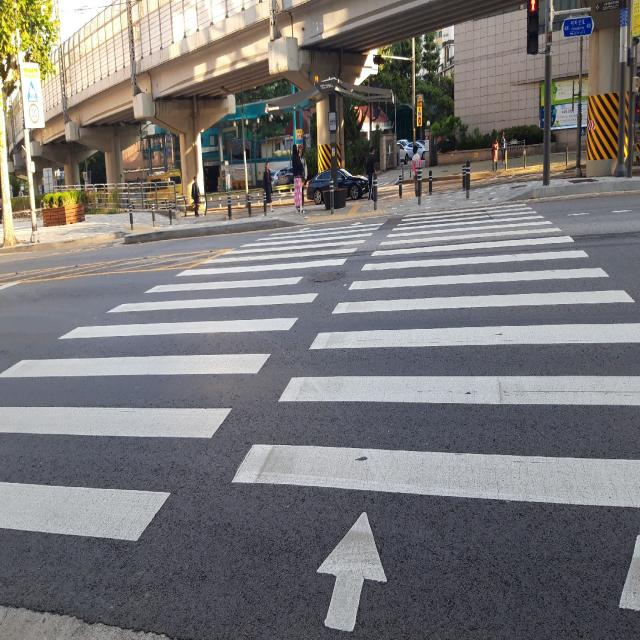빨간불: (519, 0, 540, 61)
횡단보도: (0, 199, 640, 640)
